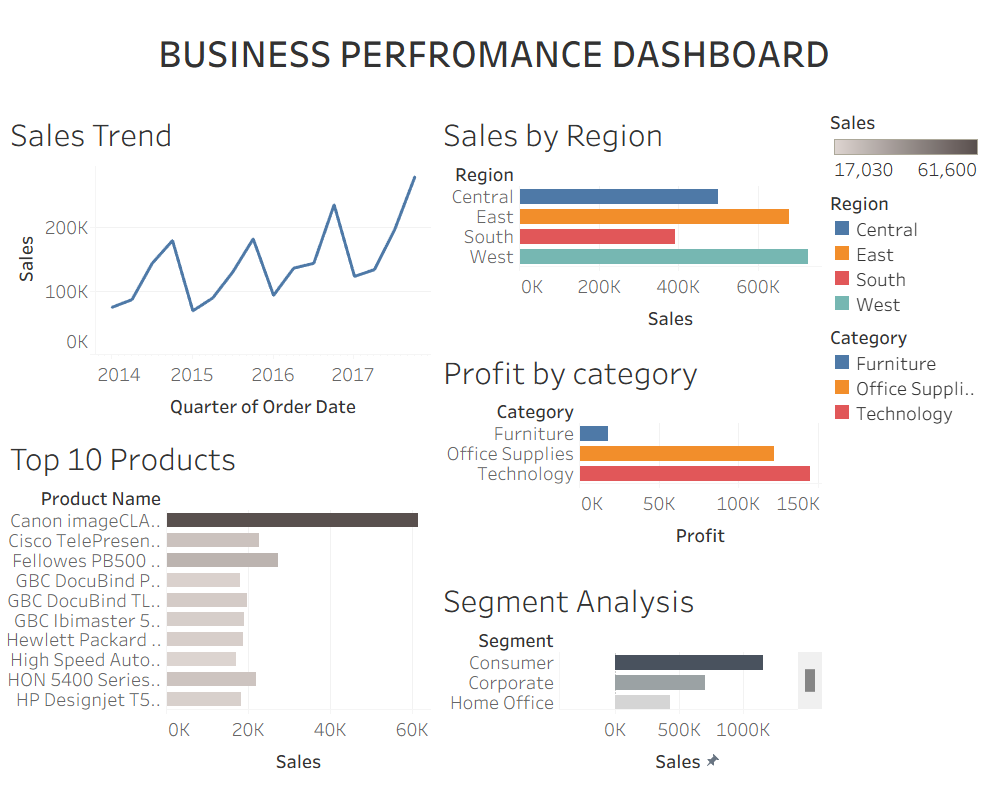

The page's visual inventory and layout, read from the dashboard file:
{"tool":"tableau","page":{"name":"Dashboard 1","canvas":[1000,800],"ordinal":0},"visuals":[{"type":"text","box":[8,8,984,105]},{"type":"worksheet","title":"Sales Trend","mark":"Automatic","rows":["Sales"],"cols":["Order Date"],"box":[8,113,433,324]},{"type":"worksheet","title":"Sales by Region","mark":"Automatic","rows":["Region"],"cols":["Sales"],"box":[441,113,391,238]},{"type":"legend","title":"Top 10 Products","param":"[federated.0zg4v8v1m9u5zw1c2sfx61w29ddq].[sum:Sales:qk]","box":[832,113,160,81]},{"type":"legend","title":"Sales by Region","param":"[federated.0zg4v8v1m9u5zw1c2sfx61w29ddq].[none:Region:nk]","box":[832,194,160,134]},{"type":"legend","title":"Profit by category","param":"[federated.0zg4v8v1m9u5zw1c2sfx61w29ddq].[none:Category:nk]","box":[832,328,160,411]},{"type":"worksheet","title":"Profit by category","mark":"Automatic","rows":["Category"],"cols":["Profit"],"box":[441,351,391,228]},{"type":"worksheet","title":"Top 10 Products","mark":"Automatic","rows":["Product Name"],"cols":["Sales"],"box":[8,437,433,355]},{"type":"worksheet","title":"Segment Analysis","mark":"Automatic","rows":["Segment"],"cols":["Sales"],"box":[441,579,391,213]}]}

Visuals, with their boxes in screenshot pixels (x1, y1, x2, y2), scaled from the page's 1000x800 canvas onto the 990x785 screenshot:
text: locate(8, 8, 982, 111)
"Sales Trend" worksheet: locate(8, 111, 437, 429)
"Sales by Region" worksheet: locate(437, 111, 824, 344)
"Top 10 Products" legend: locate(824, 111, 982, 190)
"Sales by Region" legend: locate(824, 190, 982, 322)
"Profit by category" legend: locate(824, 322, 982, 725)
"Profit by category" worksheet: locate(437, 344, 824, 568)
"Top 10 Products" worksheet: locate(8, 429, 437, 777)
"Segment Analysis" worksheet: locate(437, 568, 824, 777)
